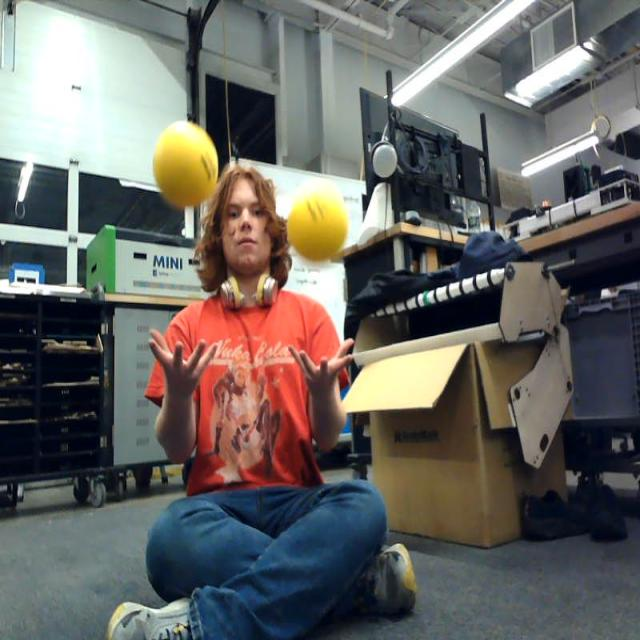Fuel: (153, 121, 218, 205), (286, 194, 348, 262)
